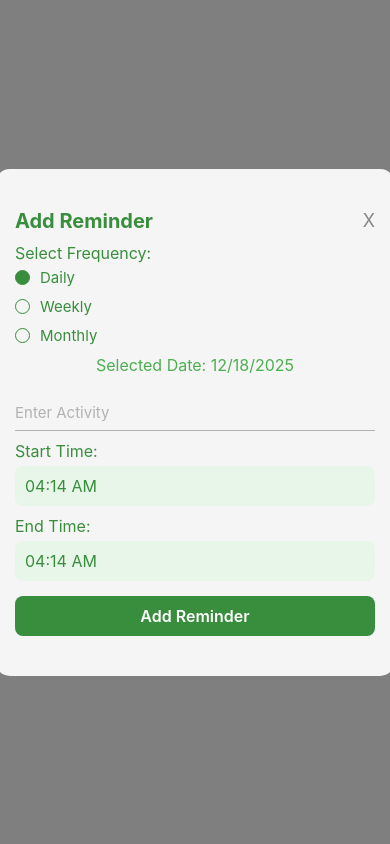
Test: AddReminder › handles frequency selection
Click the text "Weekly" at (66, 306), box [40,296,92,316]
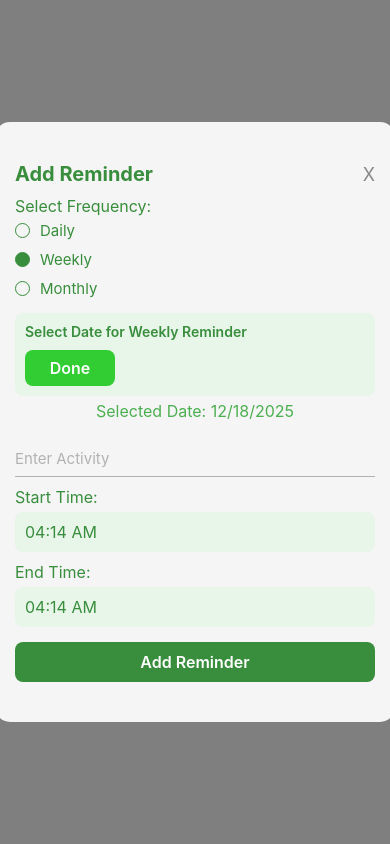
Result: the text "Select Date for Weekly Reminder" is shown at [25,323,247,340]
